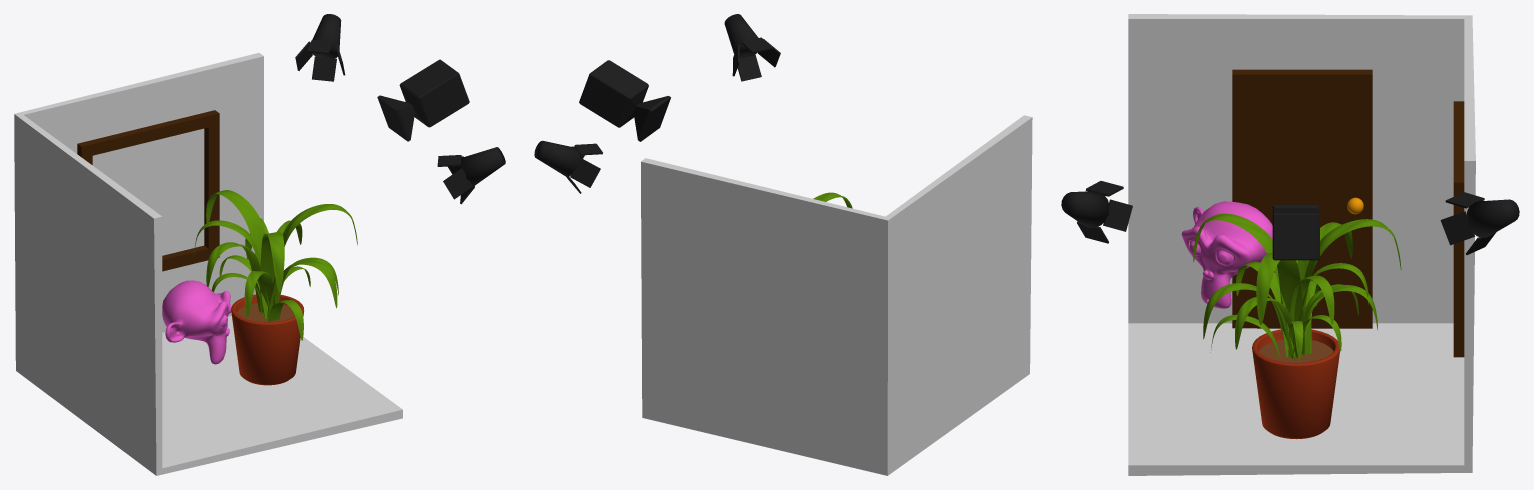
The model's file is EscenaIluminacion02.gltf.
3 renders of one model, left to right at view 1: azimuth 30°, elevation 25°; view 2: azimuth 150°, elevation 25°; view 3: azimuth 270°, elevation 25°, orthographic. The views are drawn at different scales.
Visible parts, largest first — view 1: Base, Planta, Ventana, Camara, Mono, Luz2, Luz1; view 2: Base, Camara, Luz2, Luz1; view 3: Base, Puerta, Planta, Mono, Luz1, Camara, Luz2, Ventana.
Boxes of the visible parts, left/top/right/bottom form: Base: left=14, top=53, right=402, bottom=475; Planta: left=193, top=190, right=357, bottom=385; Ventana: left=77, top=110, right=219, bottom=271; Camara: left=377, top=59, right=469, bottom=141; Mono: left=162, top=280, right=231, bottom=364; Luz2: left=437, top=147, right=505, bottom=204; Luz1: left=295, top=14, right=345, bottom=81; Base: left=641, top=115, right=1032, bottom=475; Camara: left=579, top=60, right=670, bottom=141; Luz2: left=724, top=14, right=780, bottom=81; Luz1: left=534, top=140, right=602, bottom=193; Base: left=1128, top=14, right=1475, bottom=475; Puerta: left=1232, top=69, right=1372, bottom=328; Planta: left=1193, top=213, right=1401, bottom=439; Mono: left=1181, top=201, right=1272, bottom=308; Luz1: left=1440, top=192, right=1519, bottom=254; Camara: left=1272, top=204, right=1319, bottom=260; Luz2: left=1061, top=181, right=1132, bottom=243; Ventana: left=1453, top=101, right=1464, bottom=357.
Bounding box in the file's own units: 11.18 × 7.76 × 9.75.
